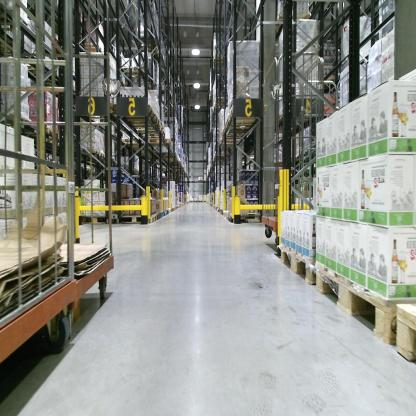pallet: (317, 253, 416, 351), (276, 241, 320, 290), (395, 299, 416, 363), (113, 102, 156, 123), (121, 113, 161, 129), (229, 104, 260, 120), (79, 212, 112, 226), (227, 112, 254, 128), (117, 66, 150, 79), (130, 121, 164, 133), (120, 214, 156, 225), (135, 127, 167, 139), (224, 121, 256, 132), (144, 136, 172, 147), (221, 129, 246, 140), (121, 139, 146, 149), (84, 43, 103, 54), (227, 214, 250, 222), (218, 138, 235, 147), (223, 210, 231, 219), (91, 149, 101, 156), (100, 151, 108, 159), (155, 212, 160, 222), (159, 210, 164, 219), (168, 207, 171, 215), (171, 207, 174, 214), (164, 211, 167, 217), (167, 209, 169, 216)
